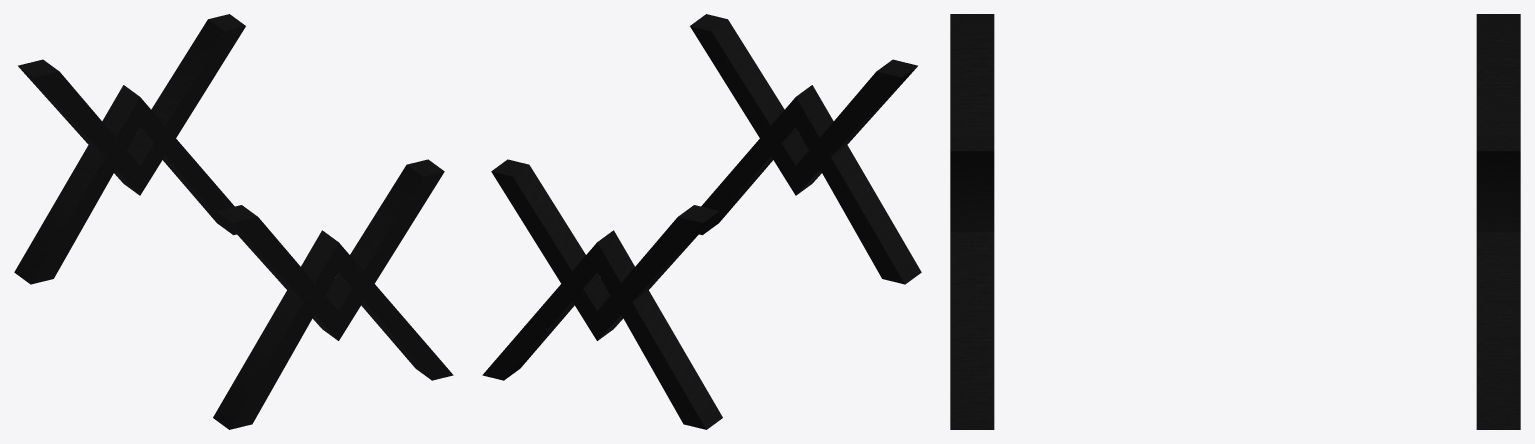
File: v_shaped_black_metal.glb
The picture shows the model from 3 angles, left to right: view 1: azimuth 30°, elevation 25°; view 2: azimuth 150°, elevation 25°; view 3: azimuth 270°, elevation 25°; orthographic projection. The views are drawn at different scales.
Visible parts, largest first — view 1: Box005, Box004, Box002, Box003; view 2: Box003, Box002, Box004, Box005; view 3: Box004, Box002, Box005, Box003.
Part boxes in pixels (x1,y1,x2,y2): Box005: (213,230,453,429); Box004: (216,159,444,340); Box002: (18,14,245,195); Box003: (14,85,236,284); Box003: (482,230,722,429); Box002: (491,159,719,340); Box004: (690,14,917,195); Box005: (699,85,921,284); Box004: (950,14,994,231); Box002: (1476,14,1520,231); Box005: (950,232,994,429); Box003: (1476,232,1520,429).
Size of the model in its own units: 0.7828 by 0.6869 by 1.3.
Materials: 1 (1 with a texture image).
